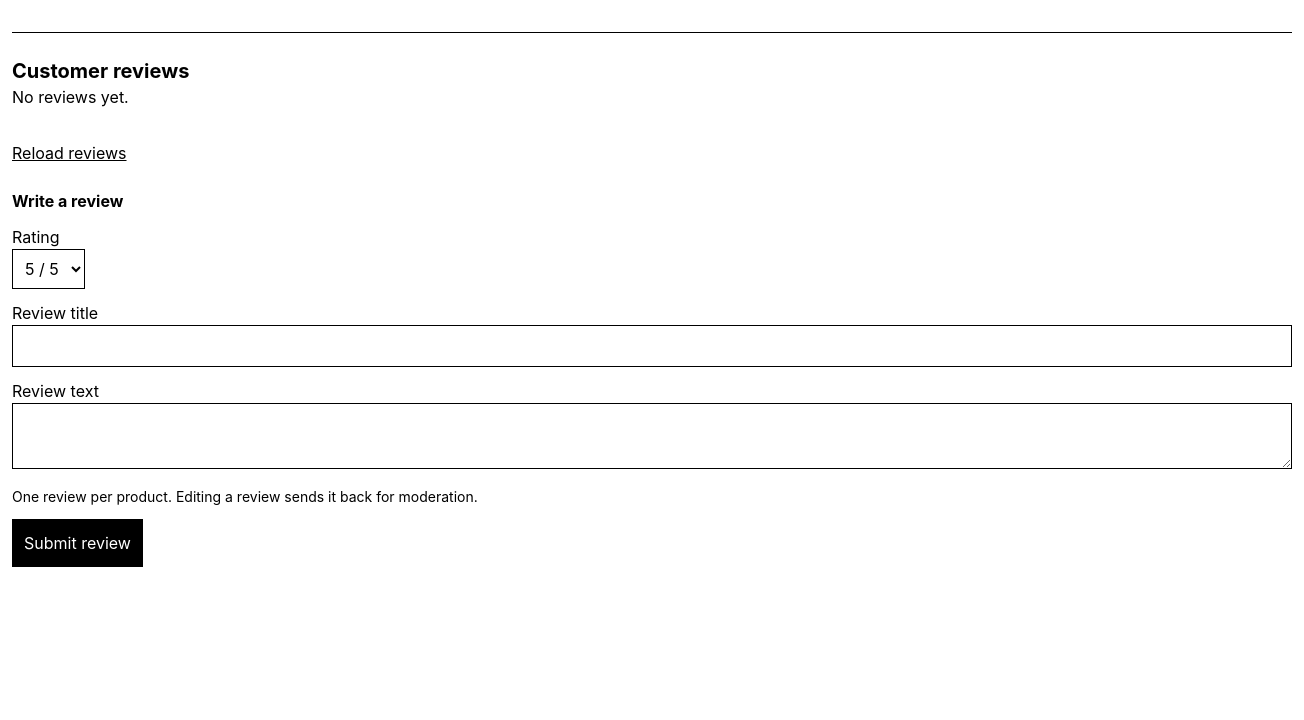
Scenario: product review lifecycle › submits a new review without approval/ownership/purchase flags and explains moderation
This screenshot has width=1304, height=720.
Type "Good cream" into the field labelled "Review title" at (652, 346), box x1=12 y1=325 x2=1292 y2=367
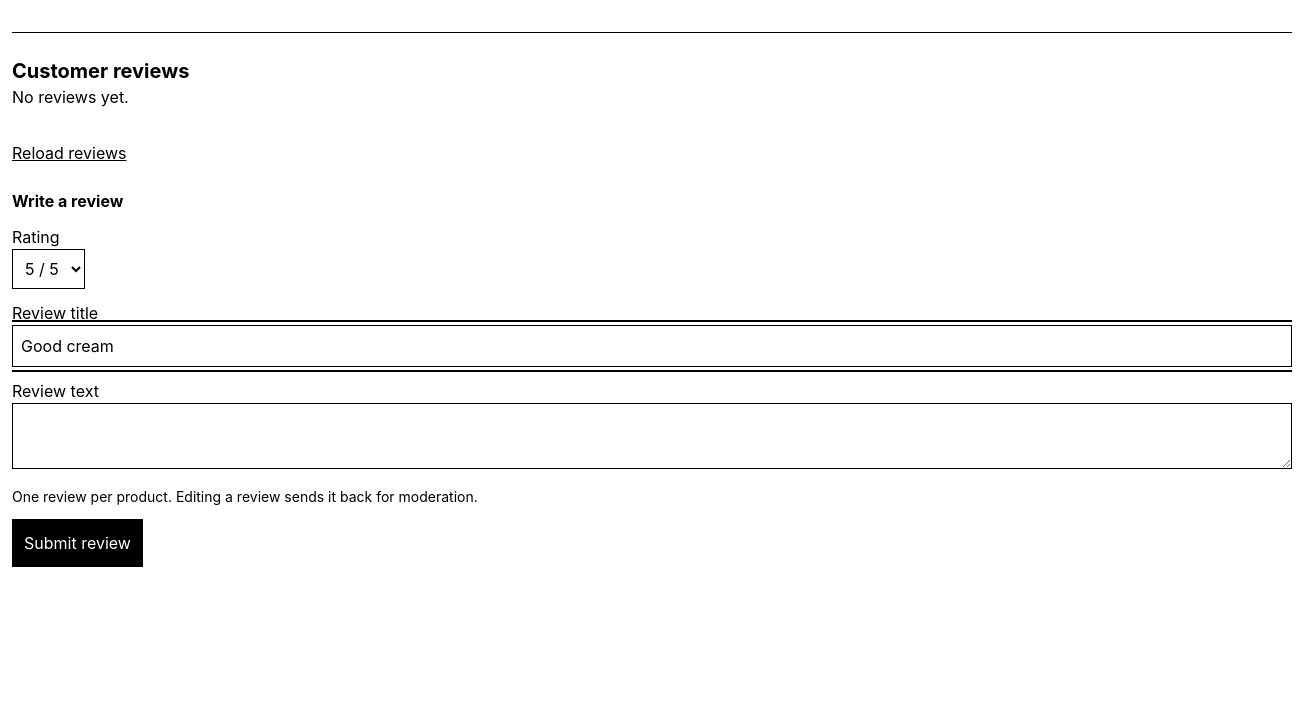
Type "Useful" into the text box labelled "Review text" at (652, 436), box x1=12 y1=403 x2=1292 y2=469
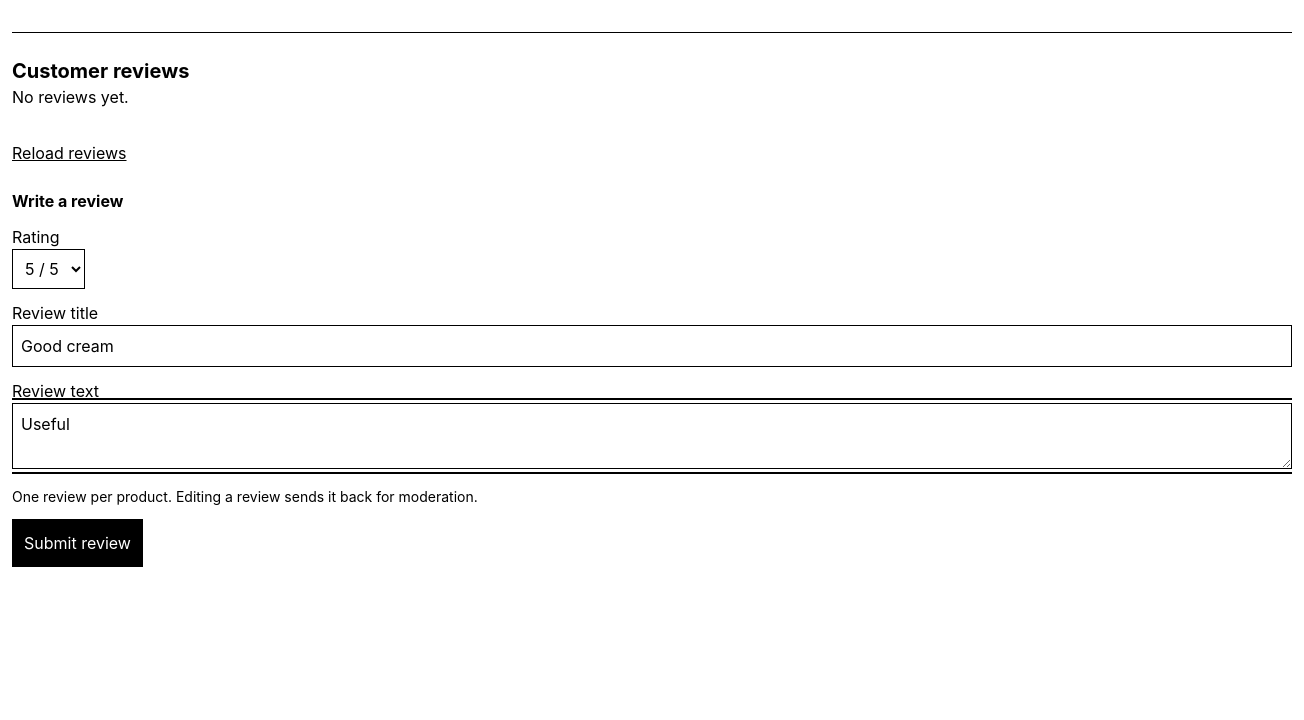
Select "4 / 5" in the dropdown labelled "Rating" at (48, 269), box x1=12 y1=249 x2=85 y2=289
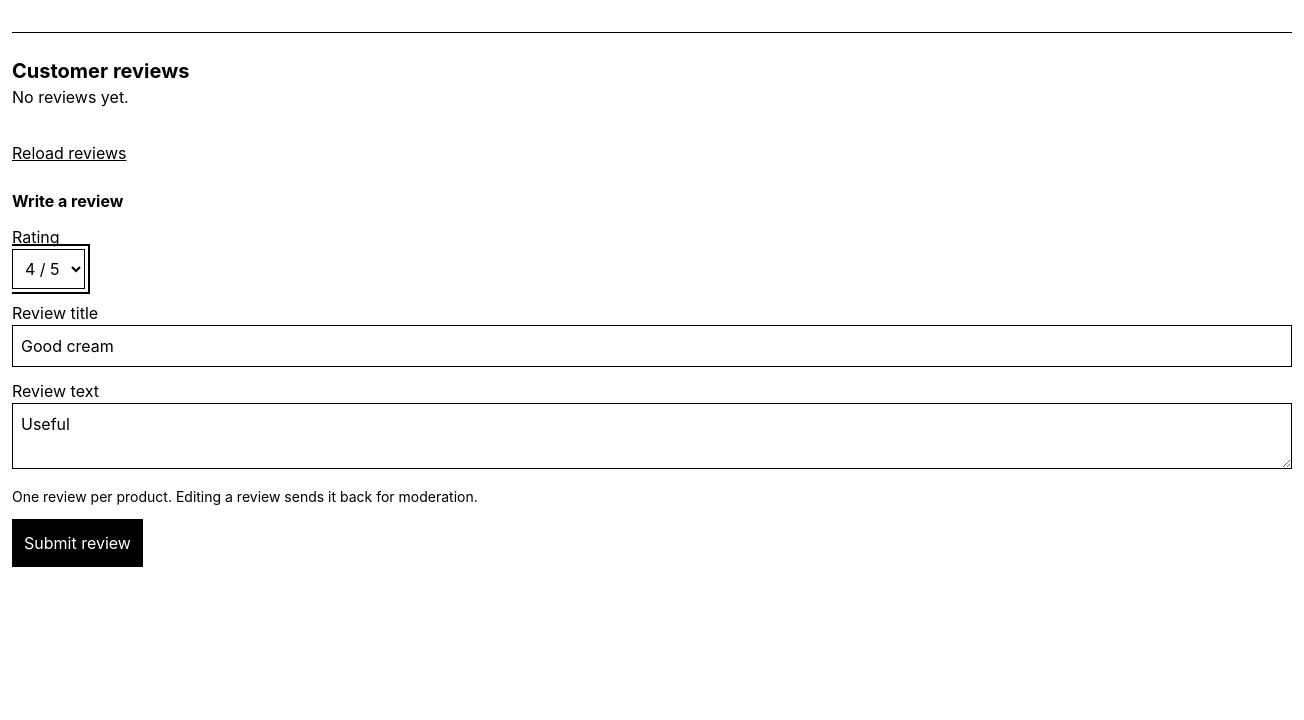
Click the button "Submit review" at (77, 543), box x1=12 y1=519 x2=143 y2=567
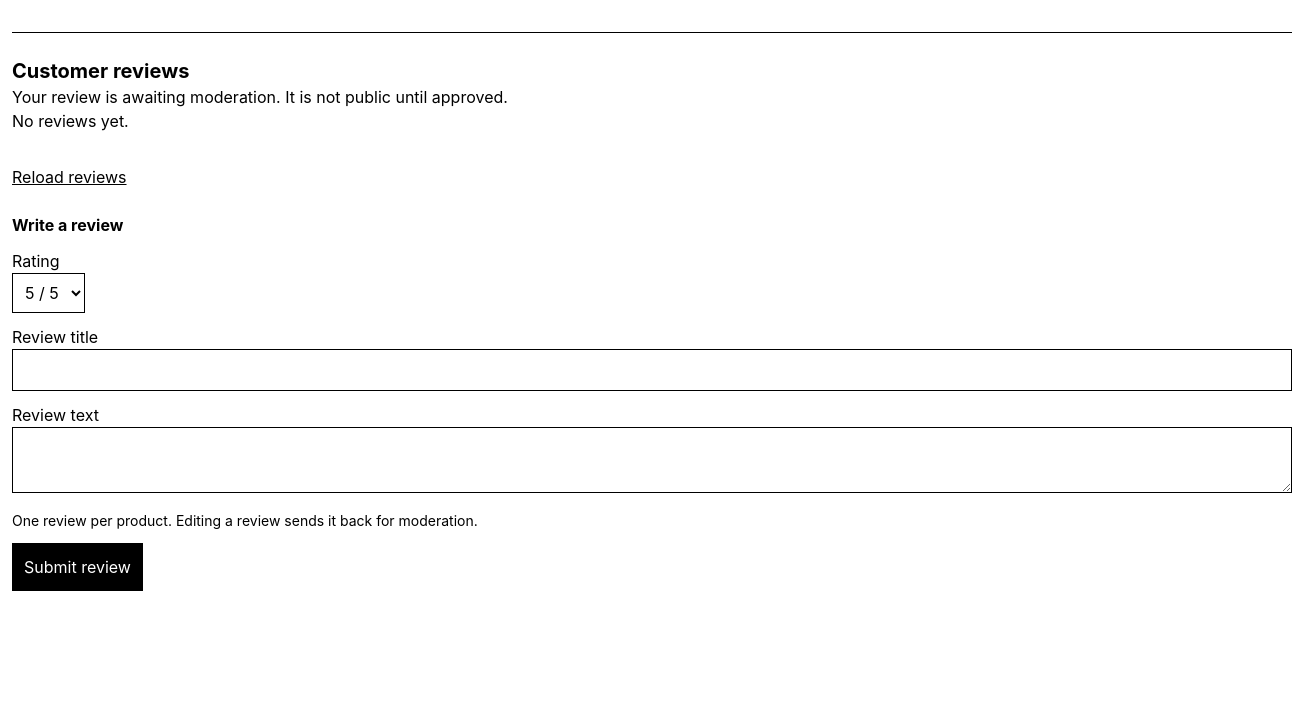
Expected: the text "Your review is awaiting moderation. It is not public until approved." is shown, x1=12 y1=87 x2=508 y2=107
